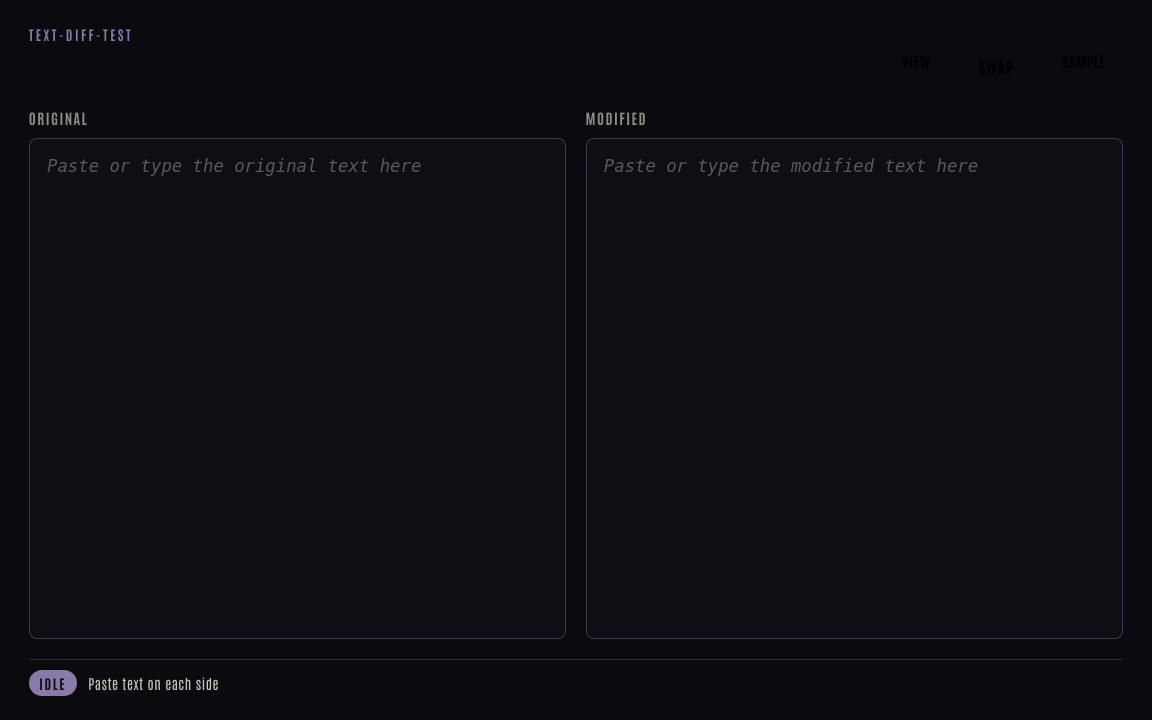
Scenario: TextDiff › identical text in both columns shows "Identical" status
Step 1. Type "same text" into the text box named "Original text input" → [298, 389], box [29,138,566,639]
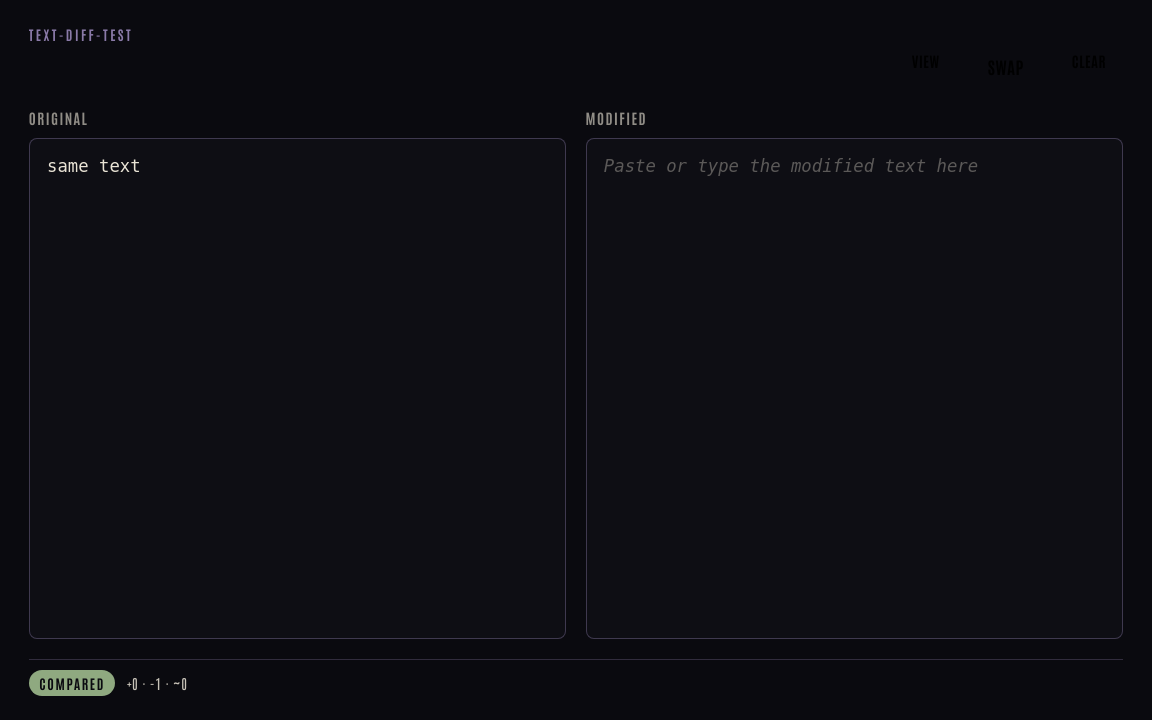
Step 2. Type "same text" into the text box named "Modified text input" → [854, 389], box [586,138,1123,639]
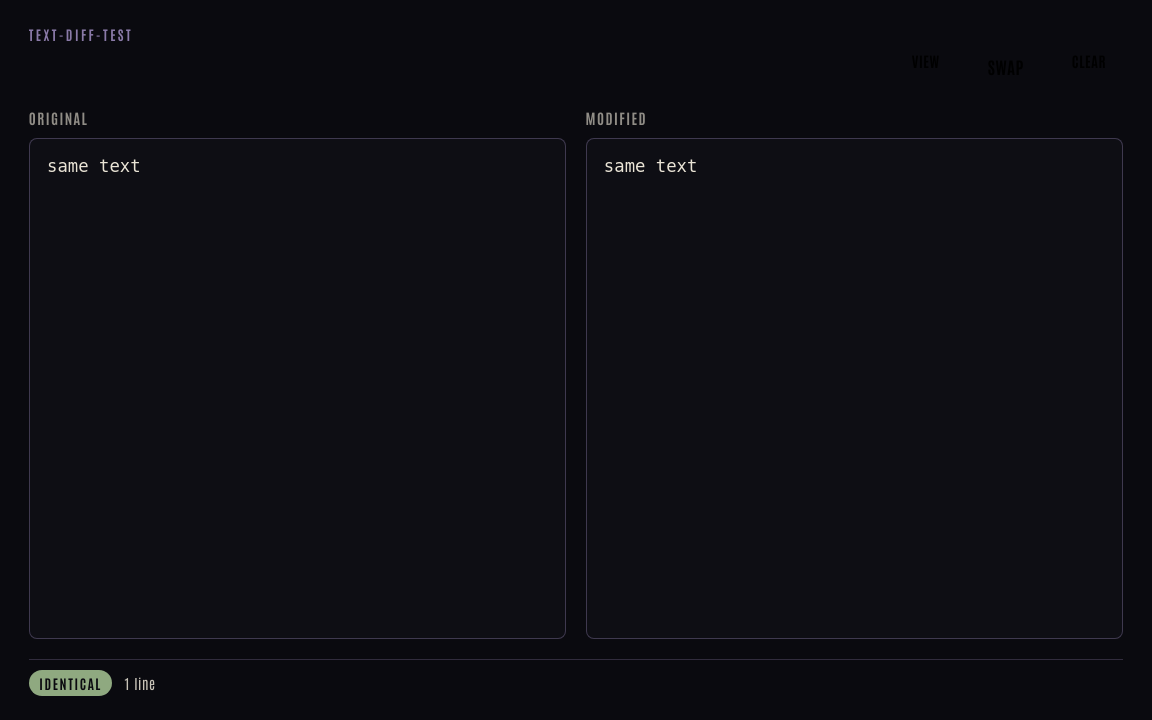
Now the text "Identical" is shown, box [29,670,112,696]
